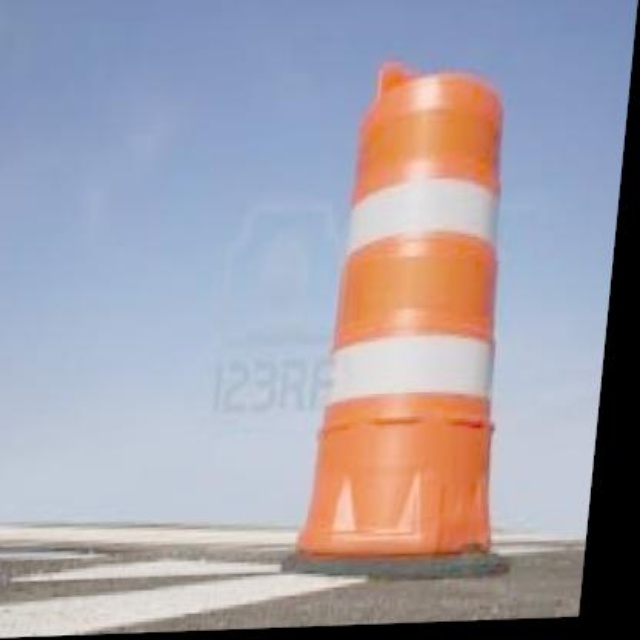obstacle: (296, 67, 545, 564)
